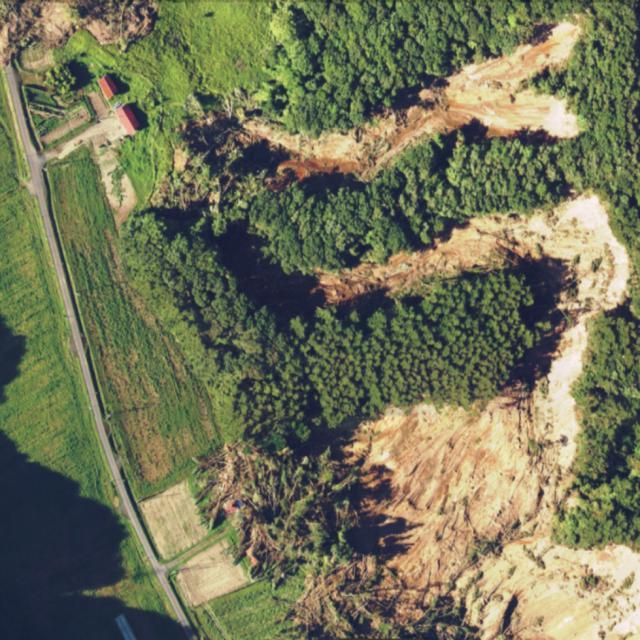landslide: (363, 194, 640, 640), (316, 194, 632, 359), (255, 21, 582, 179), (469, 45, 556, 81)
